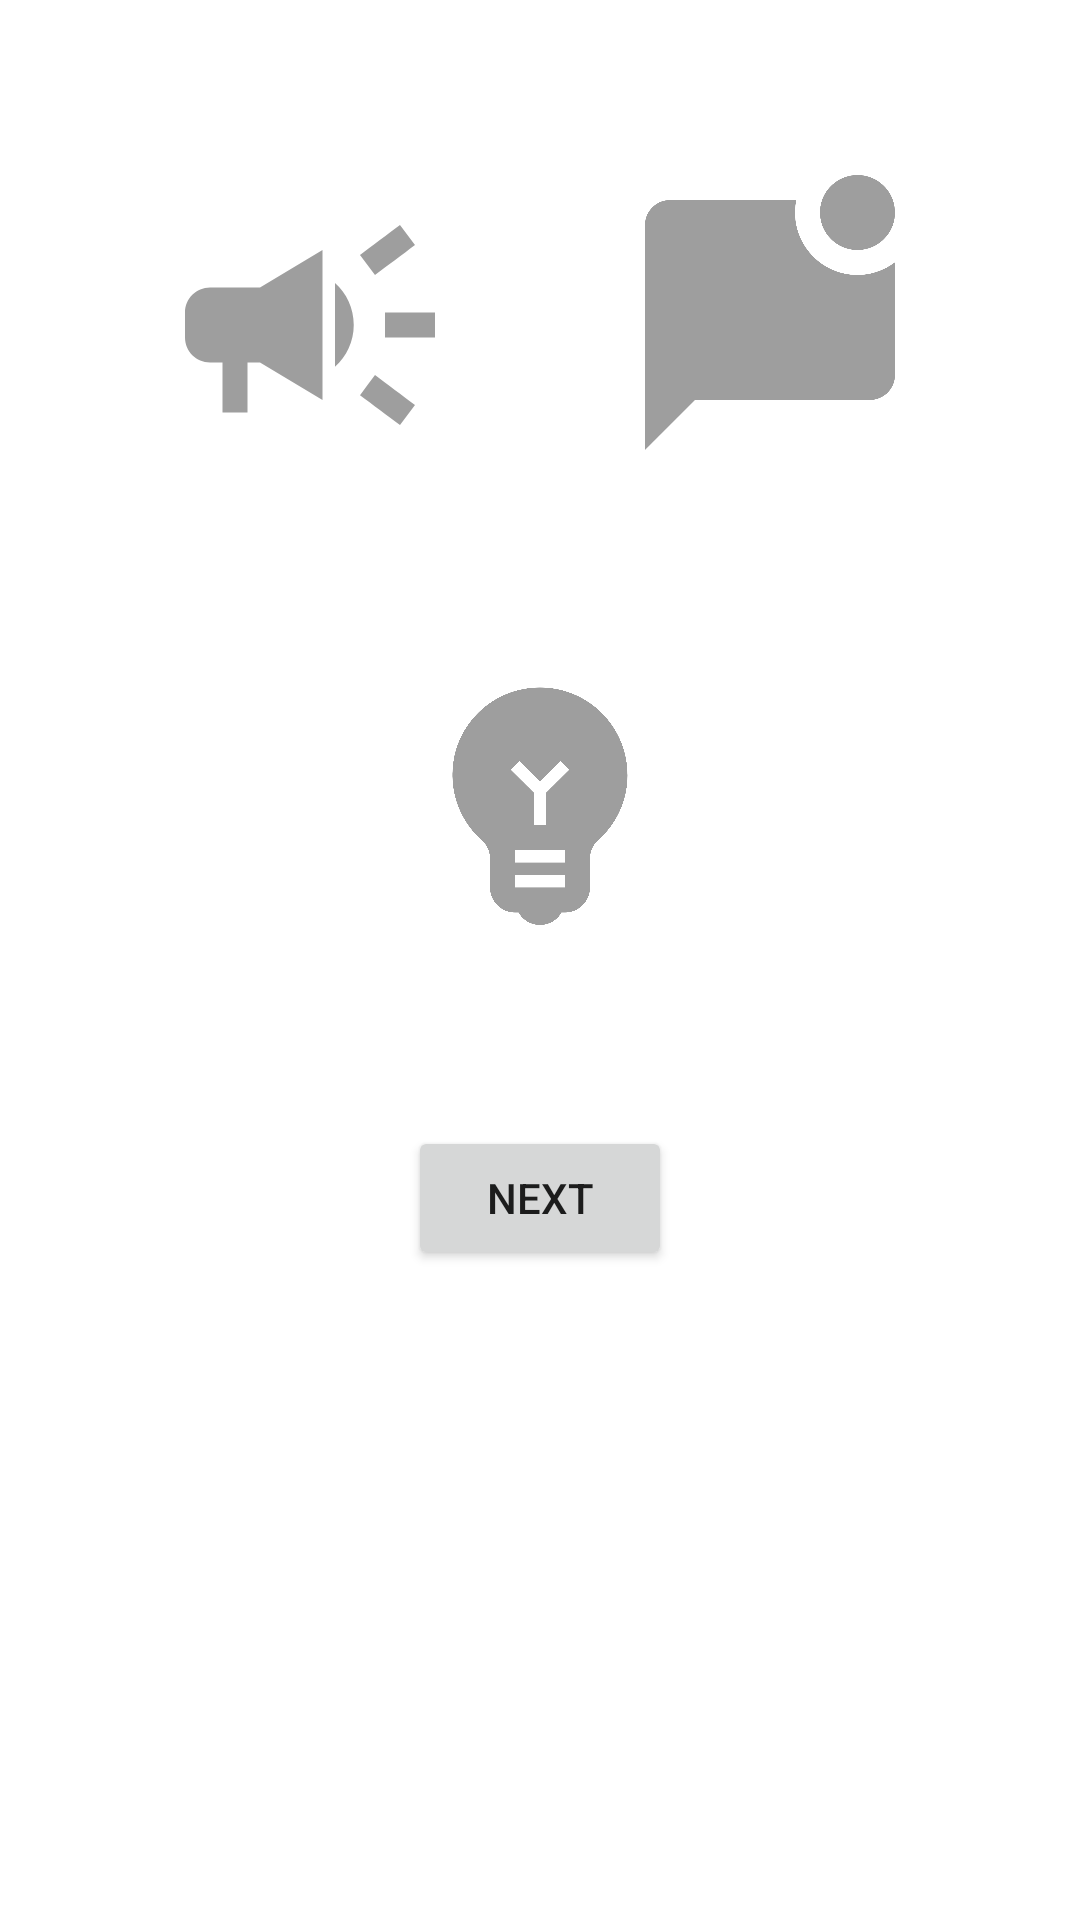

Named icons in this screenshot (1080*1920) and their bounding boxes, (x1, y1, x2, y2):
campaign: (185, 225, 435, 425)
